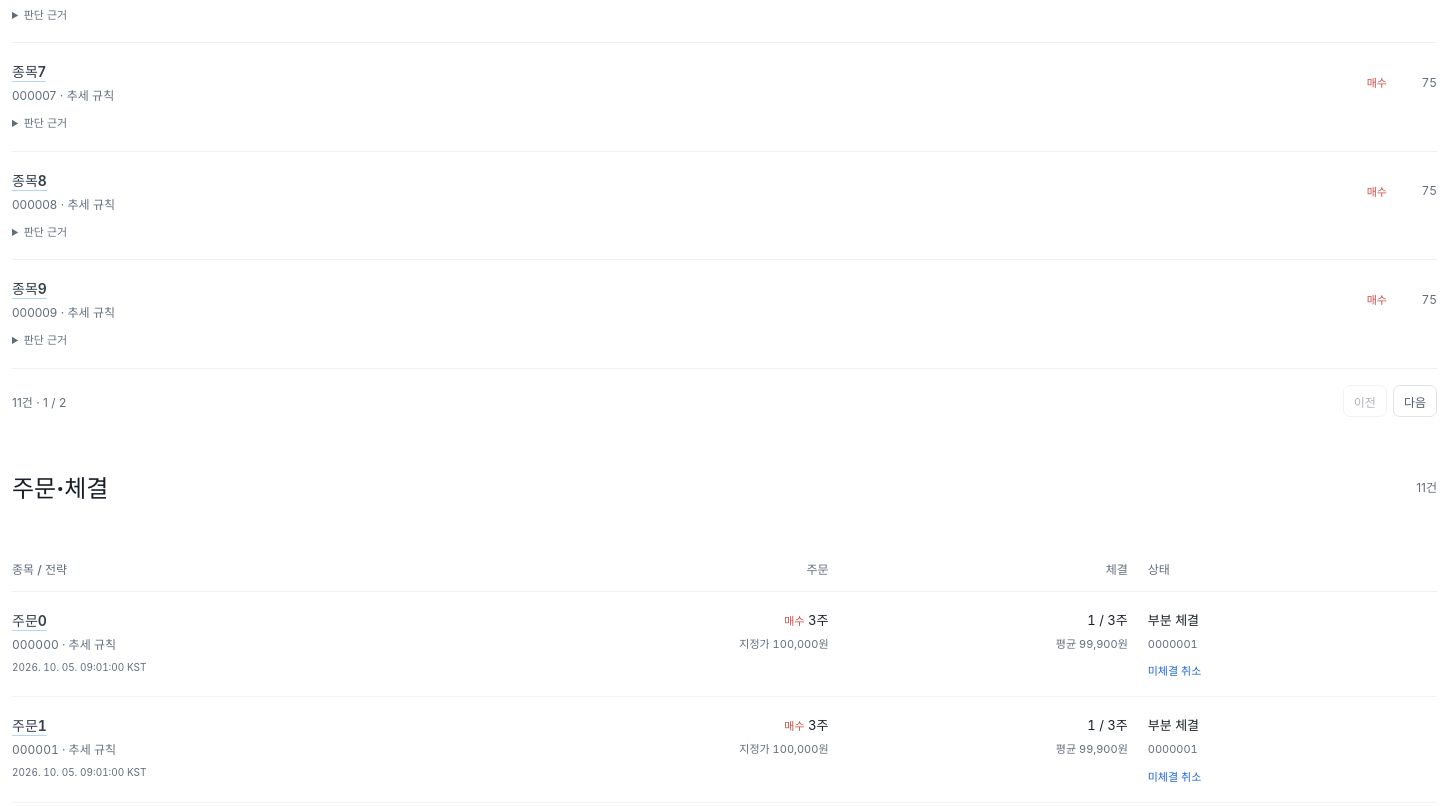
Test: experiment lab › paginates analysis and order records independently
(page scrolled)
What coordinates should you click on to do the following:
click the button "다음"
I would click on:
 (1415, 401)
Its box is [1393,385,1437,417].
(page scrolled)
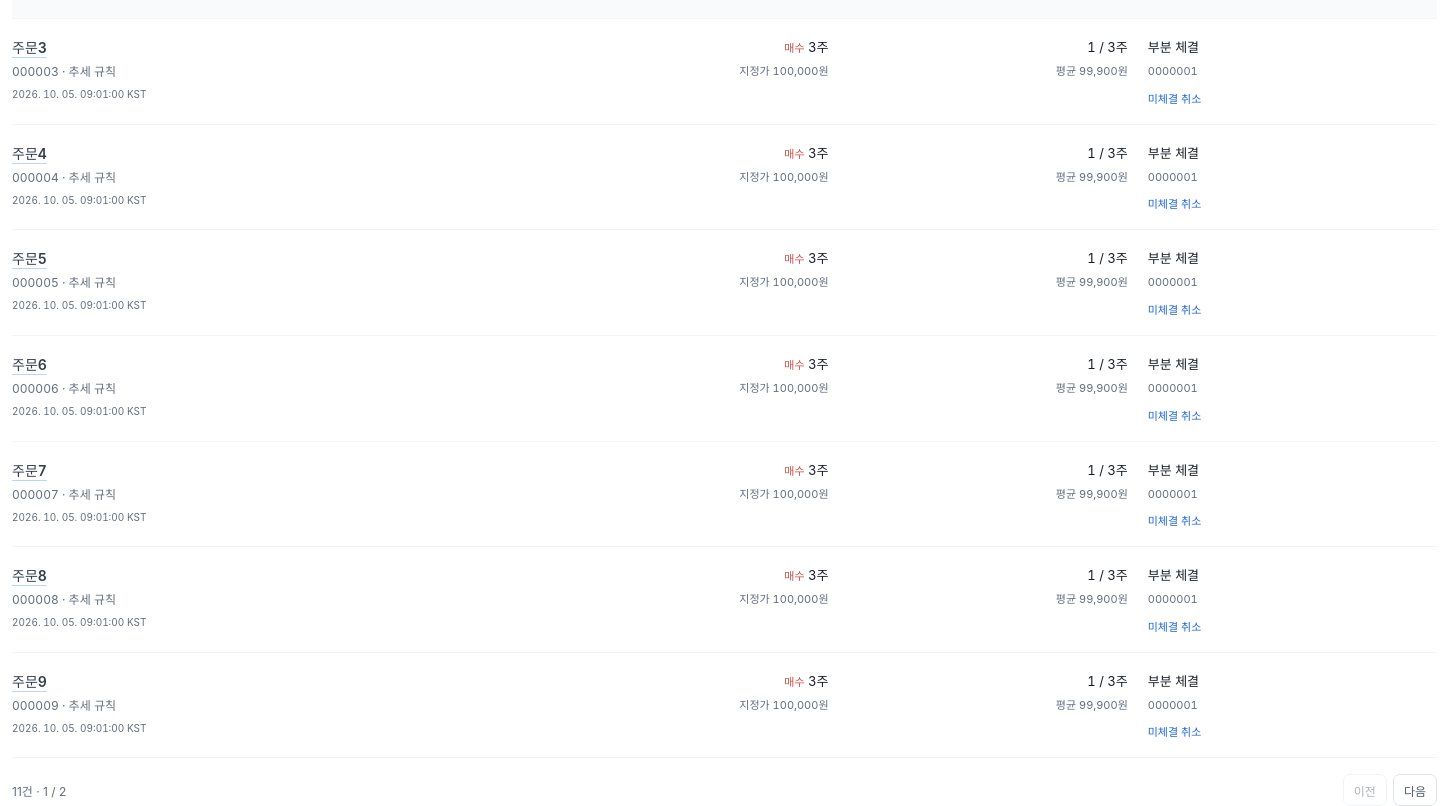
Result: the number of buttons "주문 종목 차트 보기" is 10
What coordinates should you click on to do the following:
click the button "다음"
I would click on:
 (1415, 790)
Its box is [1393,774,1437,805].
(page scrolled)
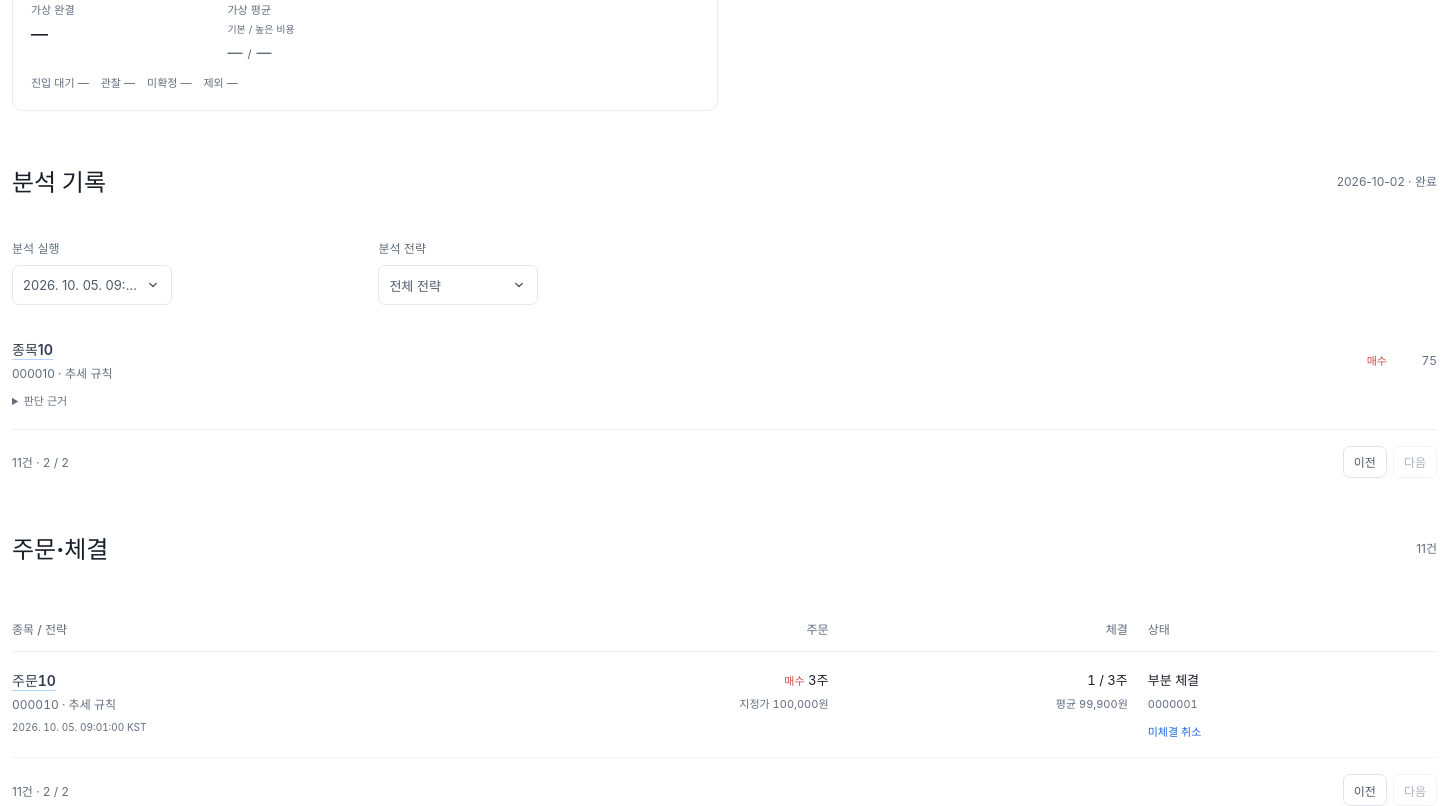
Result: the number of buttons named "주문 종목 차트 보기" is 1 at [12,670,56,690]
